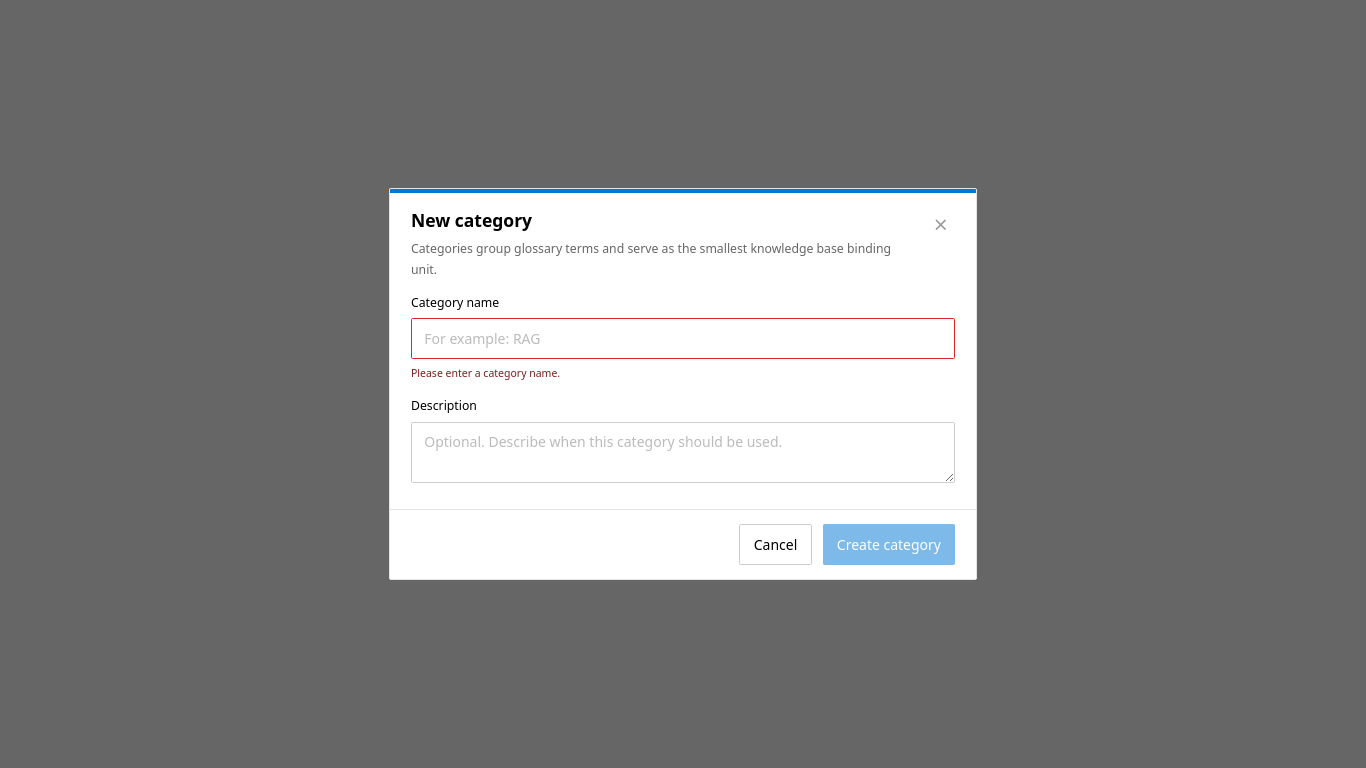
Test: CategoryFormDrawer › renders translated create copy and validation
Expected: the heading "New category" is shown, [411,208,532,232]
Expected: the text "Please enter a category name." is shown, [411,366,560,380]
Type "RAG" into the field labelled "Category name" at (683, 338), box [411,318,955,359]
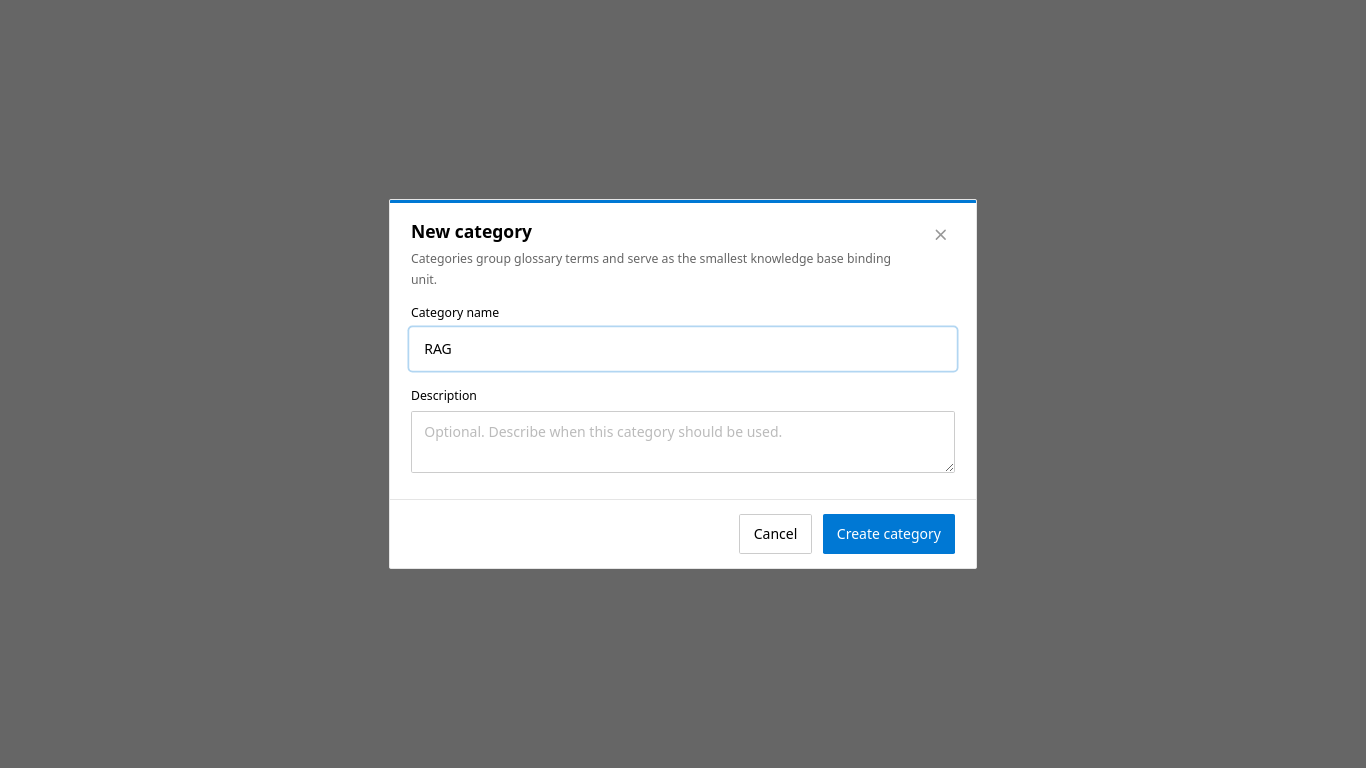
Expected: the text "Please enter a category name." is gone
